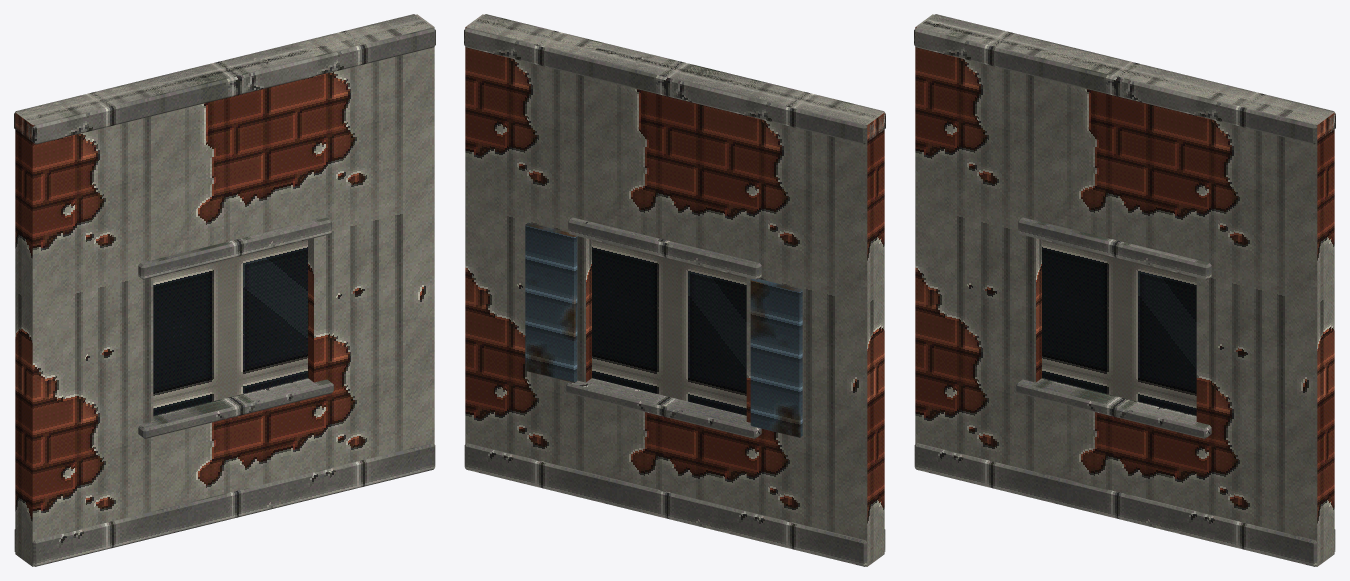
File: wall_plaster_glass.glb
3 renders of one model, left to right at view 1: azimuth 30°, elevation 25°; view 2: azimuth 150°, elevation 25°; view 3: azimuth 330°, elevation 25°, orthographic.
Parts seen in each view (by area): view 1: wall_plaster_glass_mesh; view 2: wall_plaster_glass_mesh; view 3: wall_plaster_glass_mesh.
Part boxes in pixels (x1,y1,x2,y2): wall_plaster_glass_mesh: (14,14,435,566); wall_plaster_glass_mesh: (464,14,885,566); wall_plaster_glass_mesh: (914,14,1335,566).
Size of what is drawn, in the model's own units: 4 by 4.2 by 0.5.
Materials: 4 (4 with a texture image).
